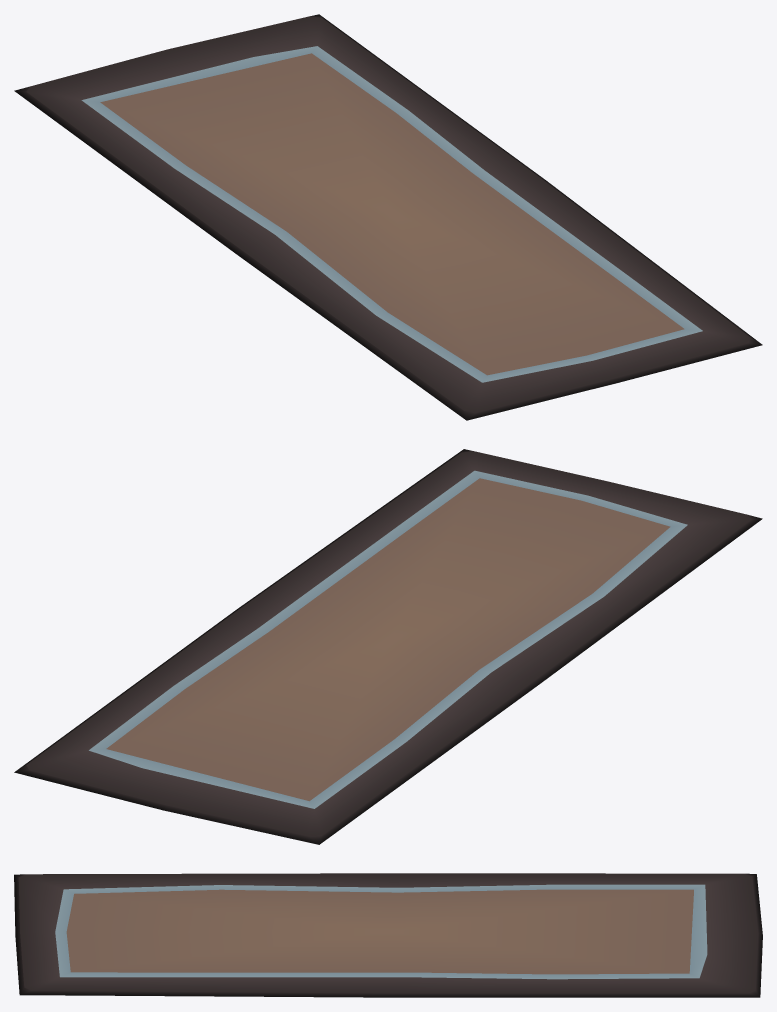
The model's file is TSP_Rug_06A.fbx.
The picture shows the model from 3 angles, top to bottom: view 1: azimuth 30°, elevation 25°; view 2: azimuth 150°, elevation 25°; view 3: azimuth 270°, elevation 25°; orthographic projection. The views are drawn at different scales.
Visible parts, largest first — view 1: TSP_Rug_06A; view 2: TSP_Rug_06A; view 3: TSP_Rug_06A.
Part boxes in pixels (x1,y1,x2,y2): TSP_Rug_06A: (14, 14, 762, 420); TSP_Rug_06A: (14, 449, 762, 844); TSP_Rug_06A: (14, 873, 762, 997).
Bounding box in the file's own units: 1.55 × 0.0225 × 3.97.
